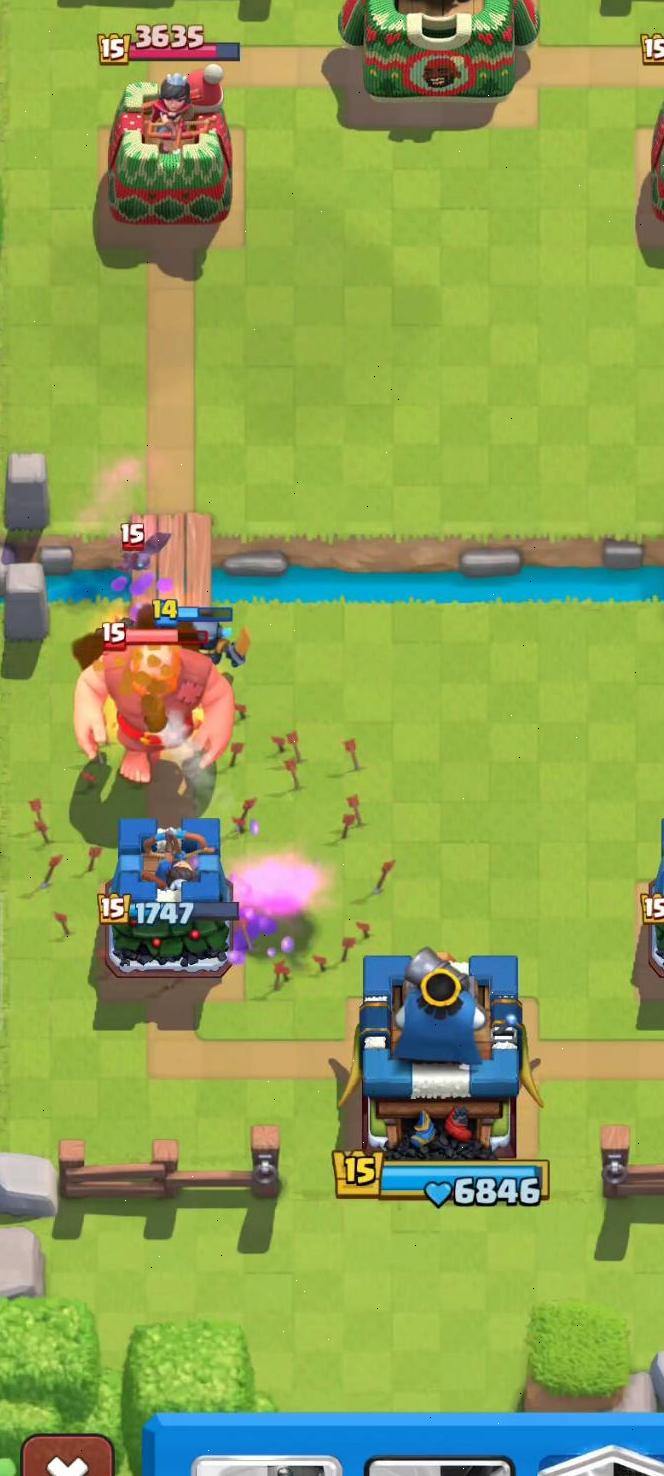enemy_bats: (111, 518, 176, 585)
enemy_giant: (64, 625, 242, 785)
player_mini_pekka: (146, 591, 256, 680)
